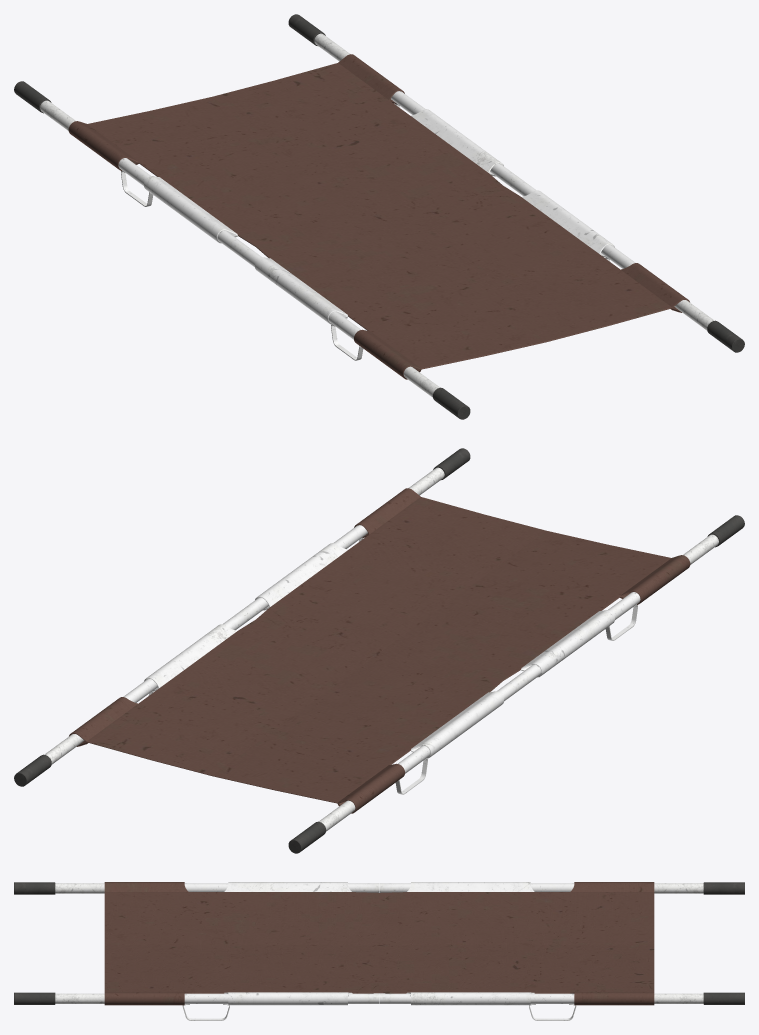
File: SM_Stretcher01.glb
The picture shows the model from 3 angles, top to bottom: view 1: azimuth 30°, elevation 25°; view 2: azimuth 150°, elevation 25°; view 3: azimuth 270°, elevation 25°; orthographic projection. The views are drawn at different scales.
Visible parts, largest first — view 1: SM_Stretcher01; view 2: SM_Stretcher01; view 3: SM_Stretcher01.
Boxes of the visible parts, <box> form: SM_Stretcher01: <box>14,14,744,419</box>; SM_Stretcher01: <box>14,448,744,853</box>; SM_Stretcher01: <box>14,882,744,1020</box>.
Size of the model in its own units: 1.1 by 0.12 by 2.94.
Materials: 3 (3 with a texture image).
